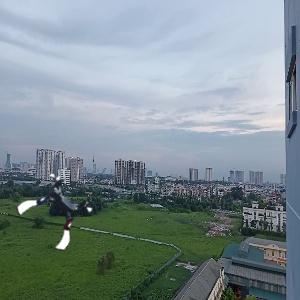drone: (24, 180, 91, 247)
